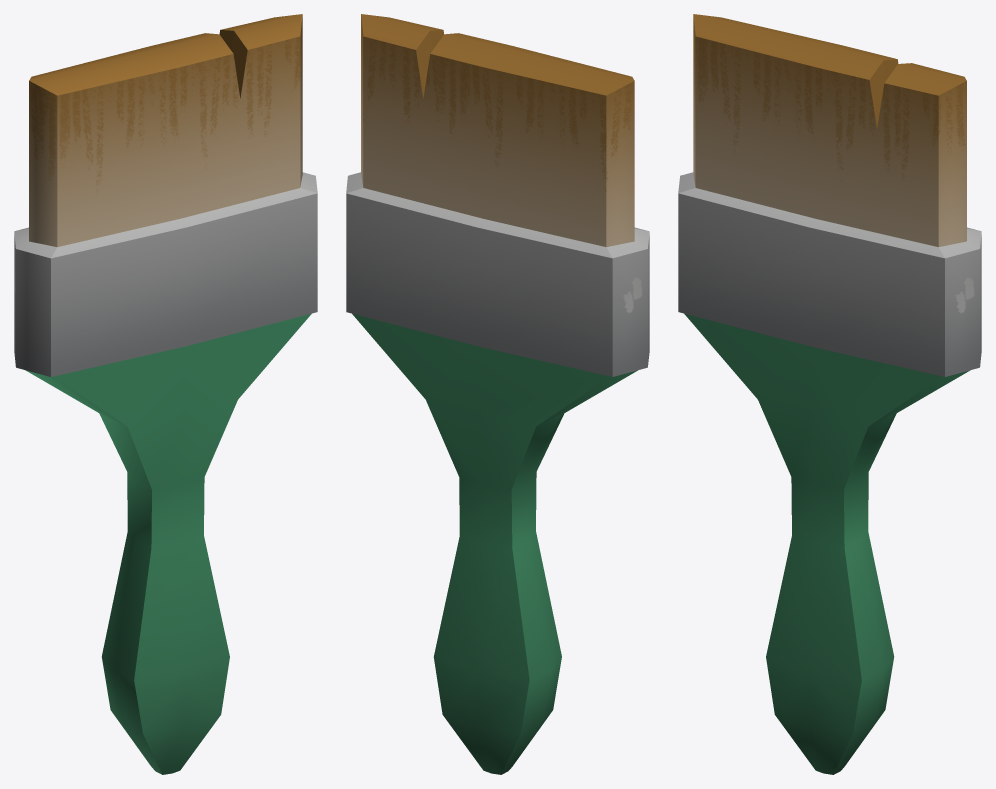
The model's file is brush2.fbx.
The picture shows the model from 3 angles, left to right: view 1: azimuth 30°, elevation 25°; view 2: azimuth 150°, elevation 25°; view 3: azimuth 330°, elevation 25°; orthographic projection.
Visible parts, largest first — view 1: brush2; view 2: brush2; view 3: brush2.
Boxes of the visible parts, <box> form: brush2: <box>14,14,317,774</box>; brush2: <box>346,14,649,774</box>; brush2: <box>678,14,981,774</box>.
Bounding box in the file's own units: 3.53 × 8.11 × 0.8431.
